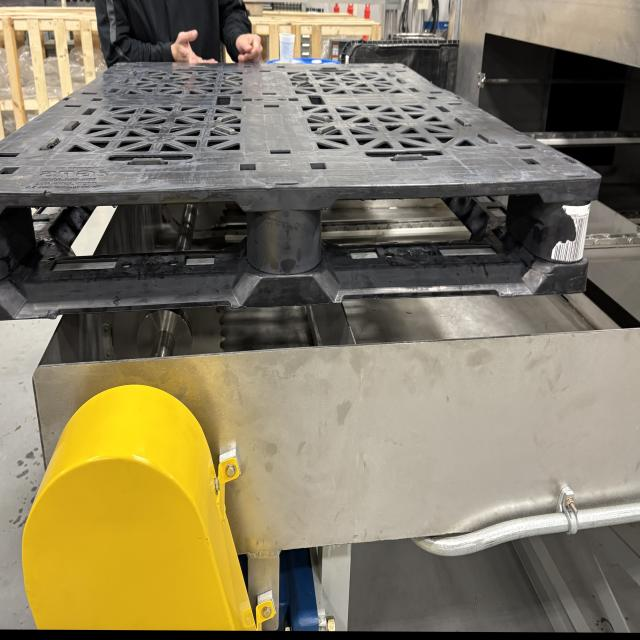igps: (0, 36, 613, 343)
